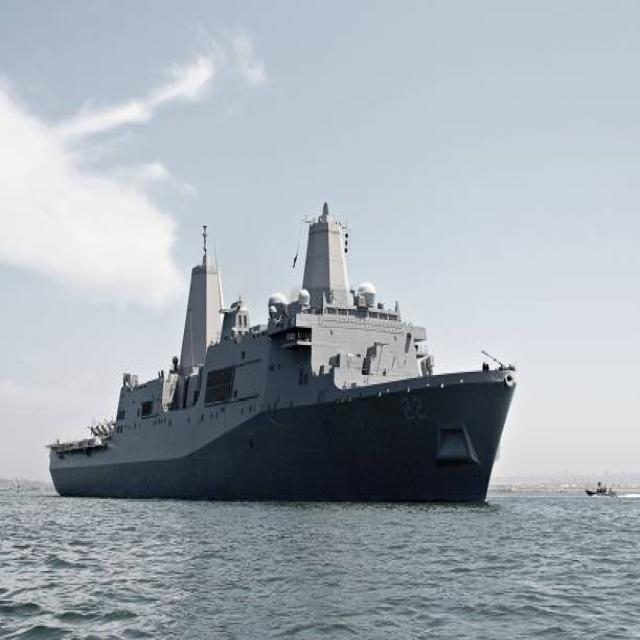Military: (48, 207, 517, 507)
